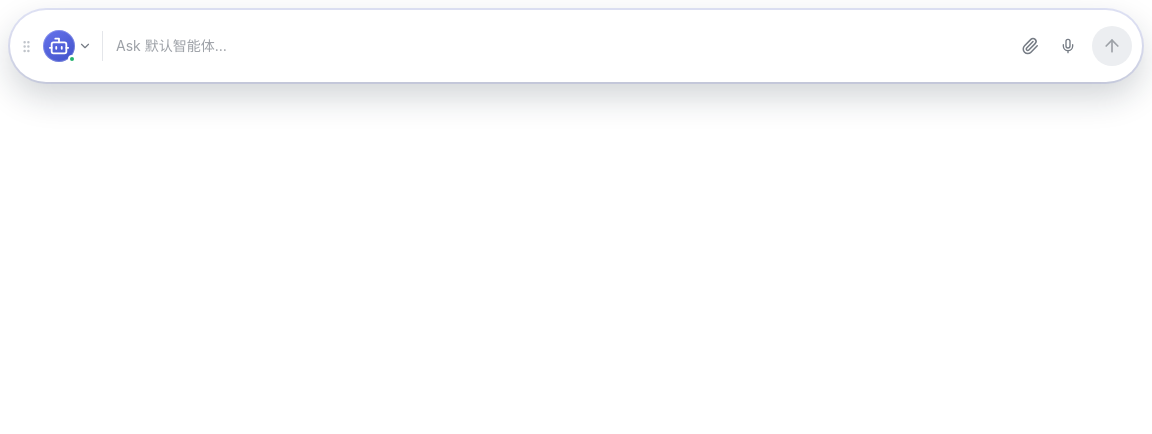
Test: QuickComposer › renders the tray composer entry points in English
Check: the element named "Agents One quick task" is shown, box [0, 0, 1151, 94]
Check: the text box with placeholder "Ask 默认智能体…" is shown, box [111, 29, 1007, 63]
Click the button named "Current agent: 默认智能体". click: [68, 46]
box: [39, 24, 96, 68]
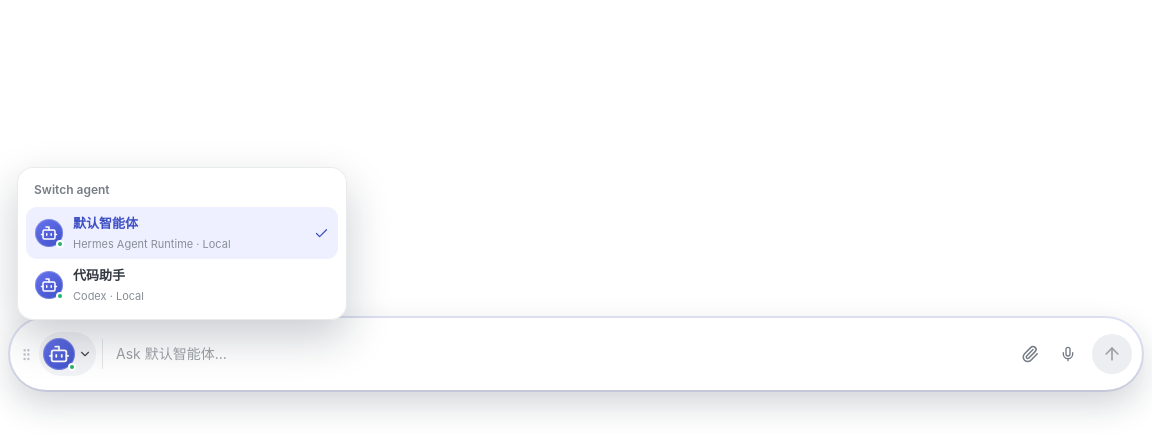
Check: the text "Switch agent" is shown, box [34, 182, 110, 197]
Check: the text "Local" is shown 2 times, box [73, 236, 231, 250]; [73, 288, 144, 302]
Click the button named "Add files or a project folder". click: [1030, 354]
box: [1012, 336, 1048, 372]
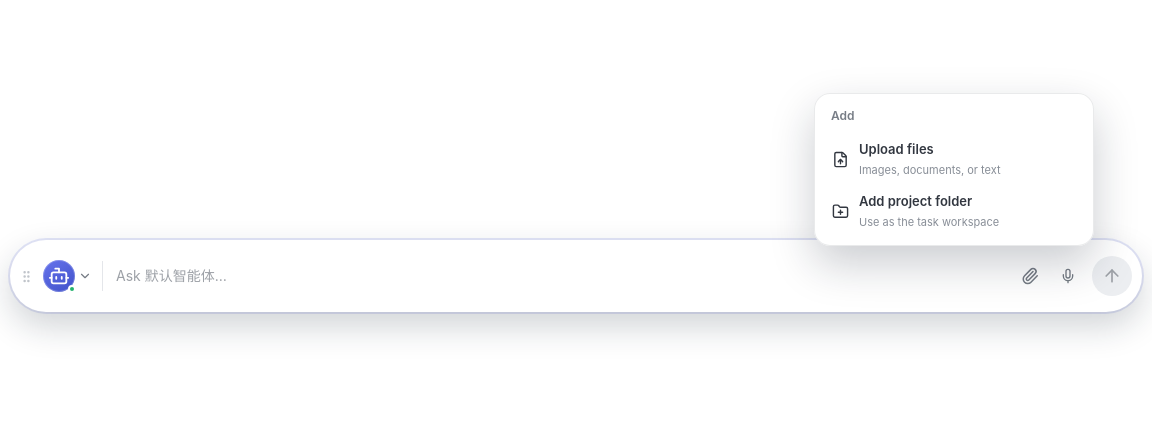
Check: the menu item "Upload files Images, documents, or text" is shown, box [823, 133, 1085, 185]
Check: the menu item "Add project folder Use as the task workspace" is shown, box [823, 185, 1085, 237]
